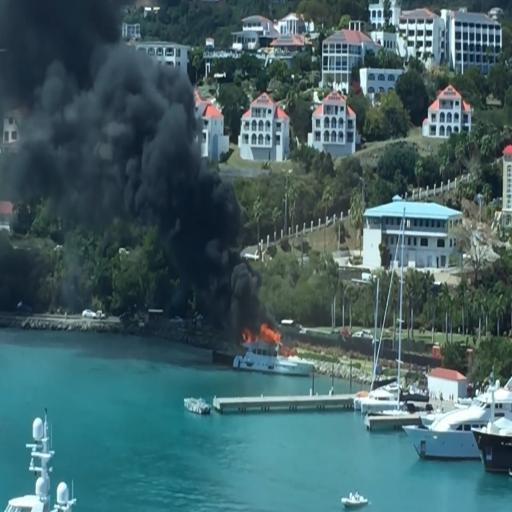smoke: (23, 53, 155, 210), (132, 88, 229, 274), (0, 0, 111, 110)
